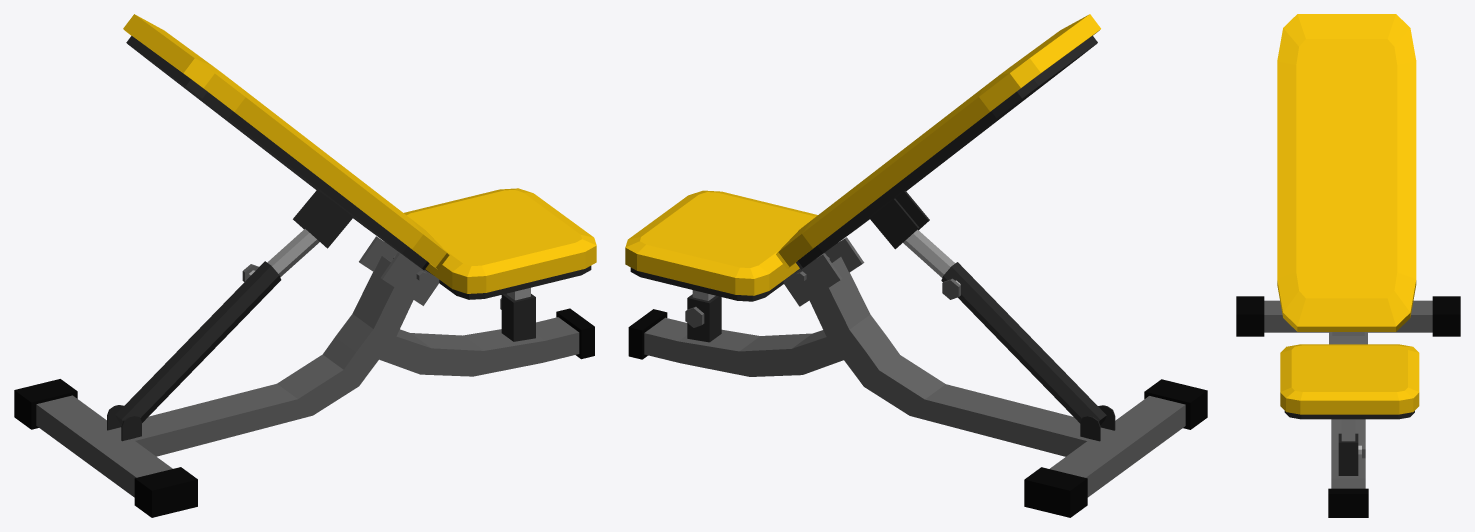
The model's file is Arc Bench.glb.
The picture shows the model from 3 angles, left to right: view 1: azimuth 30°, elevation 25°; view 2: azimuth 150°, elevation 25°; view 3: azimuth 270°, elevation 25°; orthographic projection. The views are drawn at different scales.
Parts seen in each view (by area): view 1: Arc Bench; view 2: Arc Bench; view 3: Arc Bench.
Boxes of the visible parts, x1=… form: Arc Bench: x1=14, y1=14, x2=596, y2=517; Arc Bench: x1=625, y1=14, x2=1207, y2=517; Arc Bench: x1=1236, y1=14, x2=1460, y2=517.
Bounding box in the file's own units: 3.11 × 2.46 × 1.48.
Materials: 1 (1 with a texture image).
